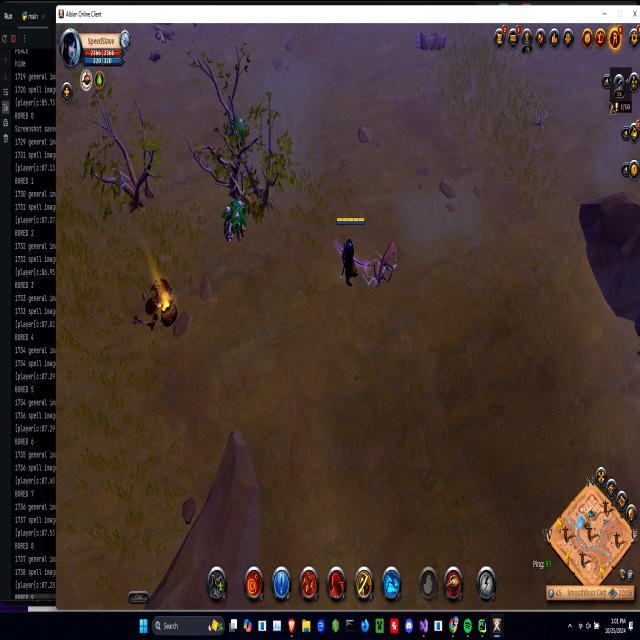hide: (222, 194, 248, 246), (231, 114, 249, 146)
mob: (415, 26, 448, 54)
ore: (368, 238, 400, 291)
red: (332, 212, 366, 290)
